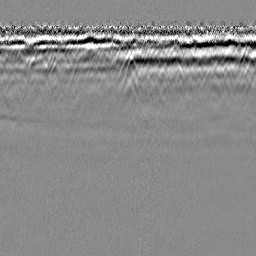cavity: (117, 51, 139, 81)
